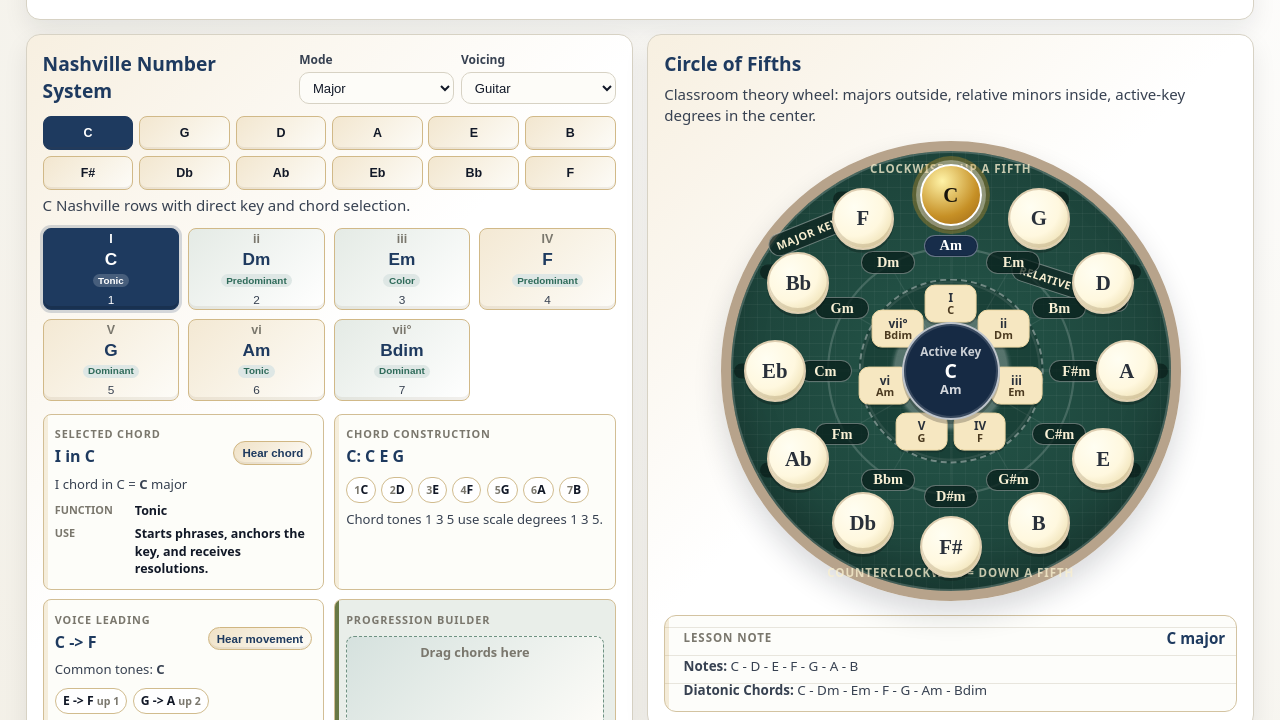
Test: App integration › updates Nashville learning details for the selected chord function
(page scrolled)
Click the button with aria-label "V G 5".
click(111, 360)  # box [43,319,179,401]
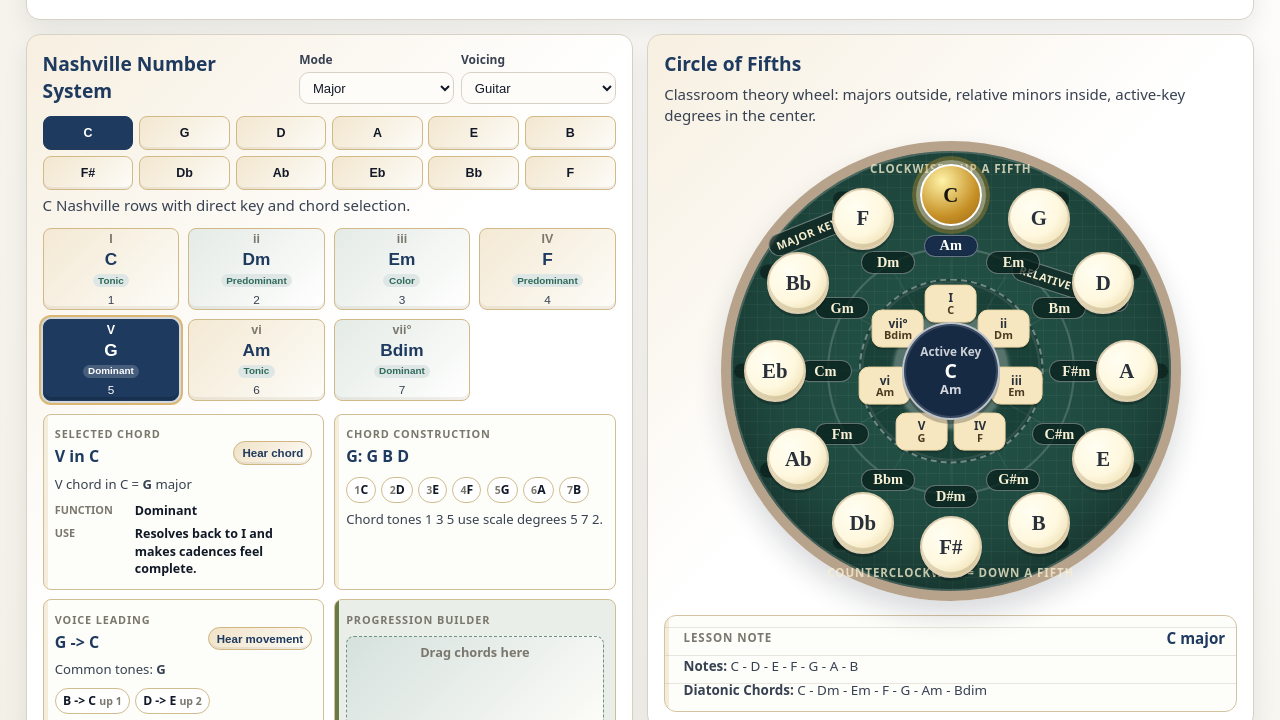
Result: the heading "V in C" is shown at [55,445,99,467]
Result: the heading "G -> C" is shown at [55,631,99,653]
Result: the text "Chord tones 1 3 5 use scale degrees 5 7 2." is shown at [346,510,604,528]
